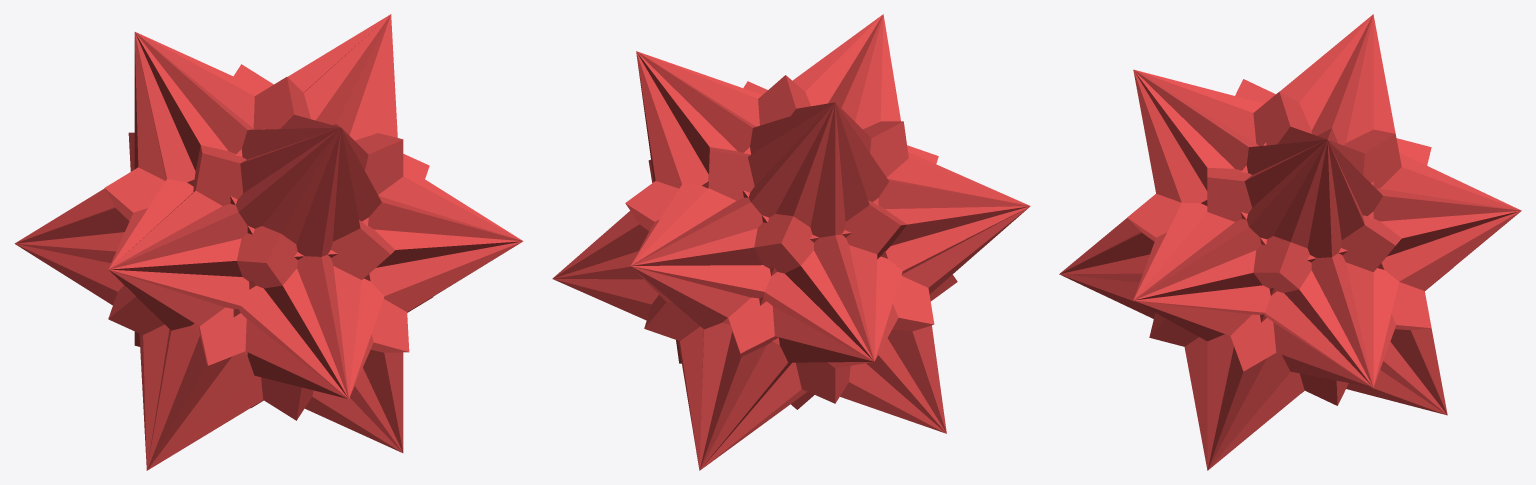
The model's file is great_triakisicosahedron.obj.
3 renders of one model, left to right at view 1: azimuth 30°, elevation 25°; view 2: azimuth 150°, elevation 25°; view 3: azimuth 270°, elevation 25°, orthographic. The views are drawn at different scales.
Parts seen in each view (by area): view 1: Shape_IndexedFaceSet; view 2: Shape_IndexedFaceSet; view 3: Shape_IndexedFaceSet.
Part boxes in pixels (x1=…): Shape_IndexedFaceSet: x1=14, y1=14, x2=523, y2=470; Shape_IndexedFaceSet: x1=552, y1=14, x2=1030, y2=470; Shape_IndexedFaceSet: x1=1059, y1=14, x2=1521, y2=470.
Bounding box in the file's own units: 3.46 × 3.24 × 3.62.
